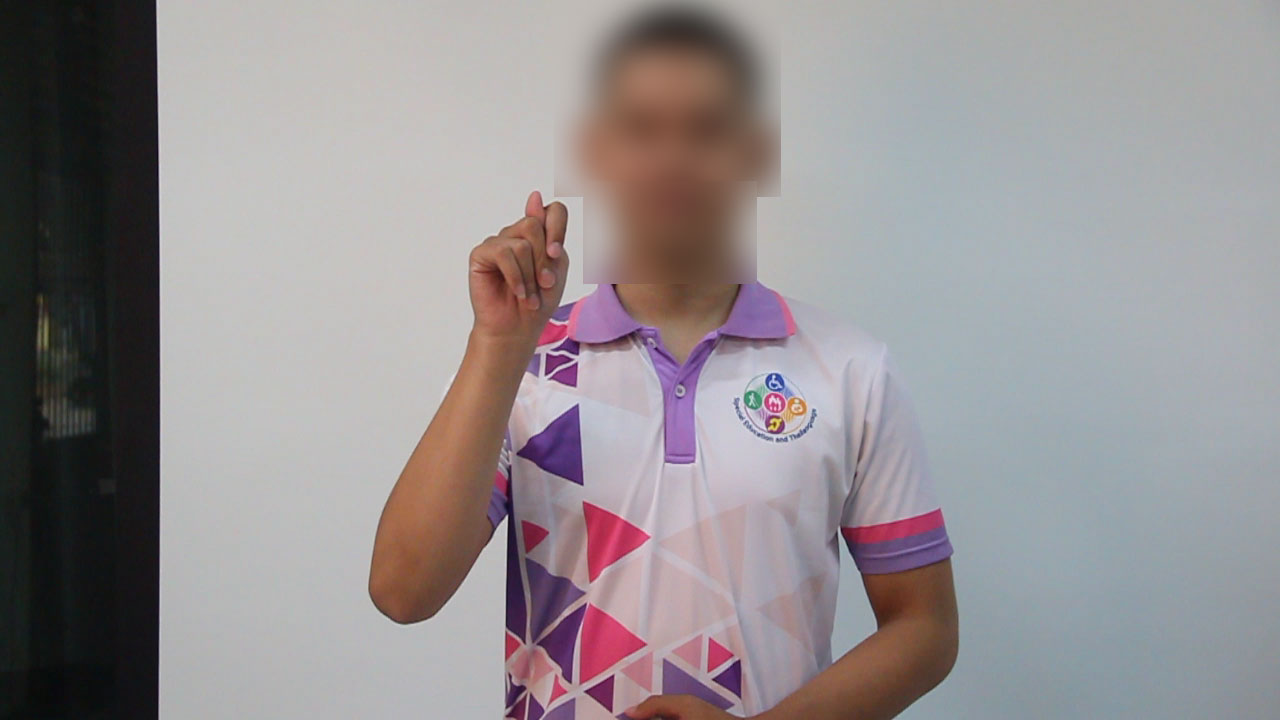tor: (438, 173, 599, 381)
